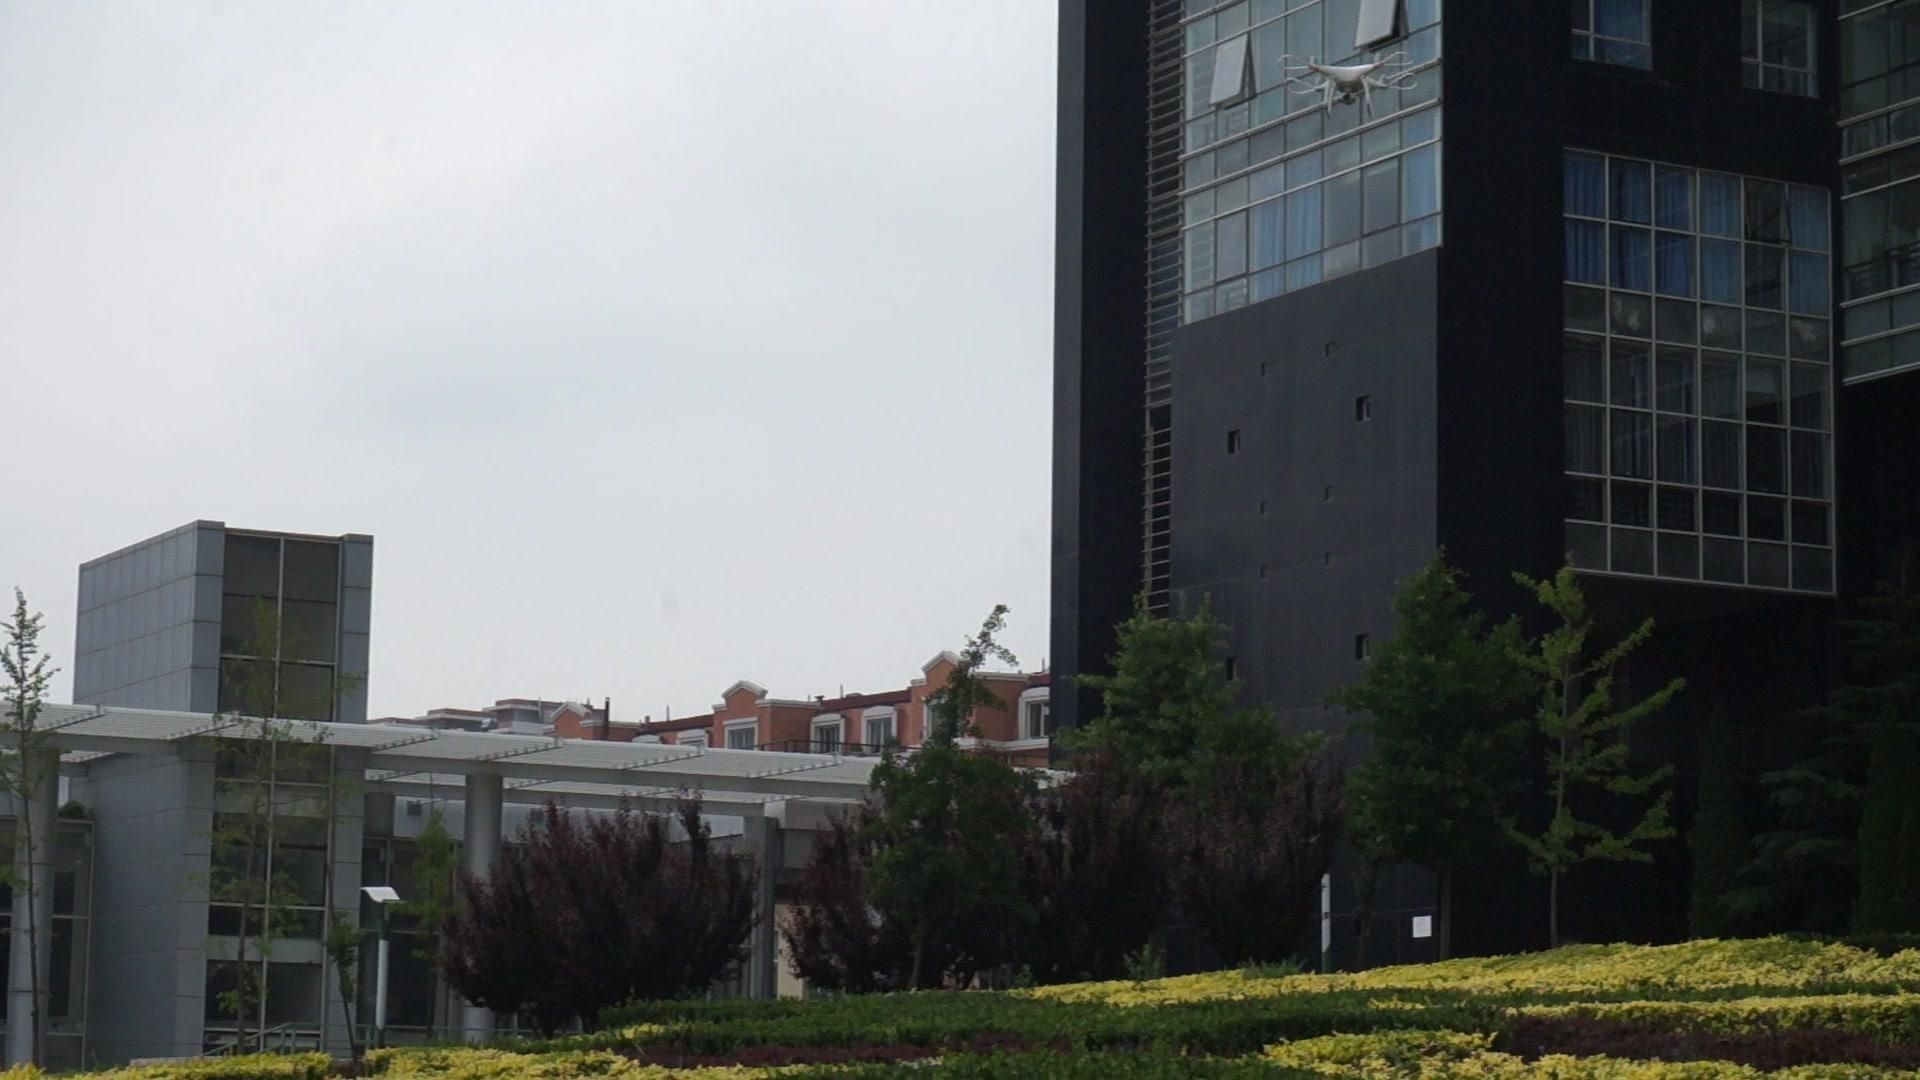UAV: (1276, 51, 1419, 120)
